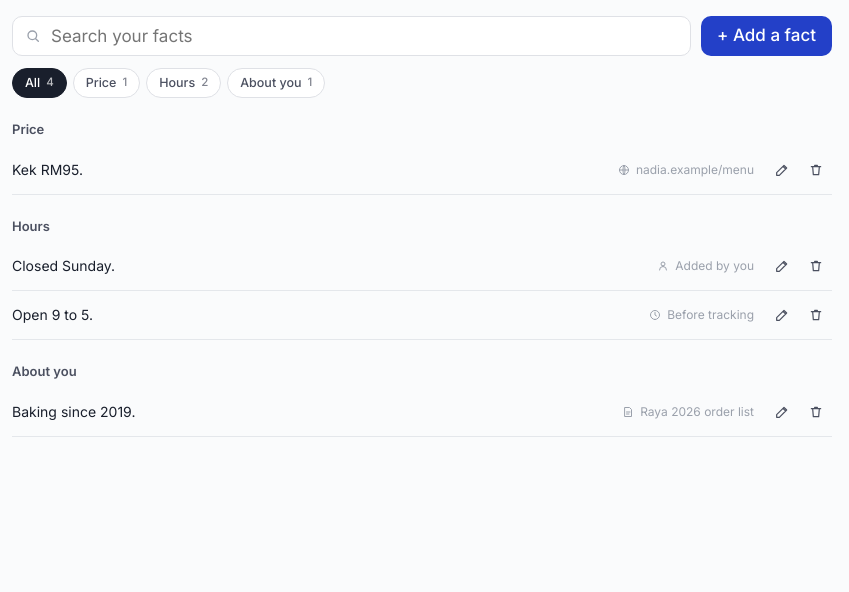
Test case: FactList › adds a fact with its kind, trusted straight away
Click the button "+ Add a fact". click: click(766, 36)
box: [701, 16, 832, 56]
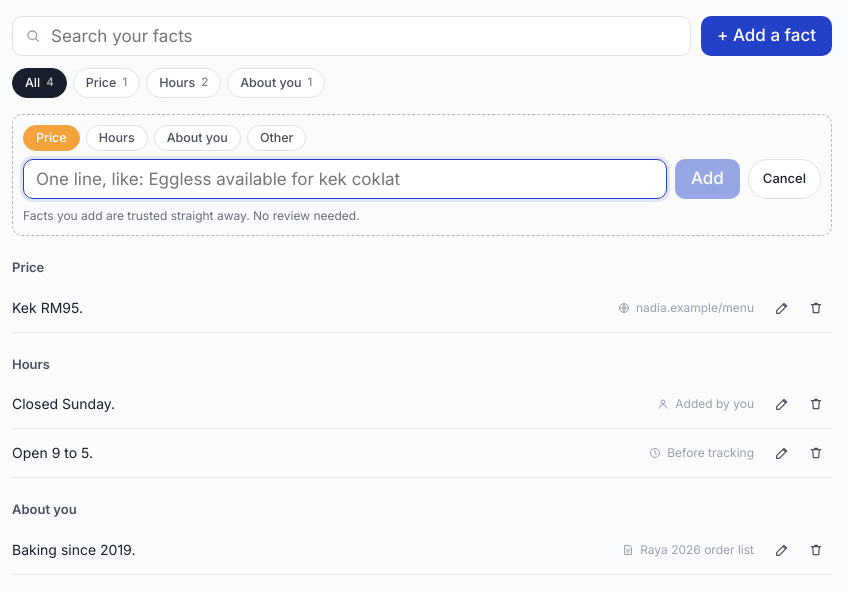
Expected: the text "Facts you add are trusted straight away. No review needed." is shown, [23, 208, 360, 223]
Click the radio button labelled "Other". click: click(277, 138)
box: [247, 125, 306, 151]
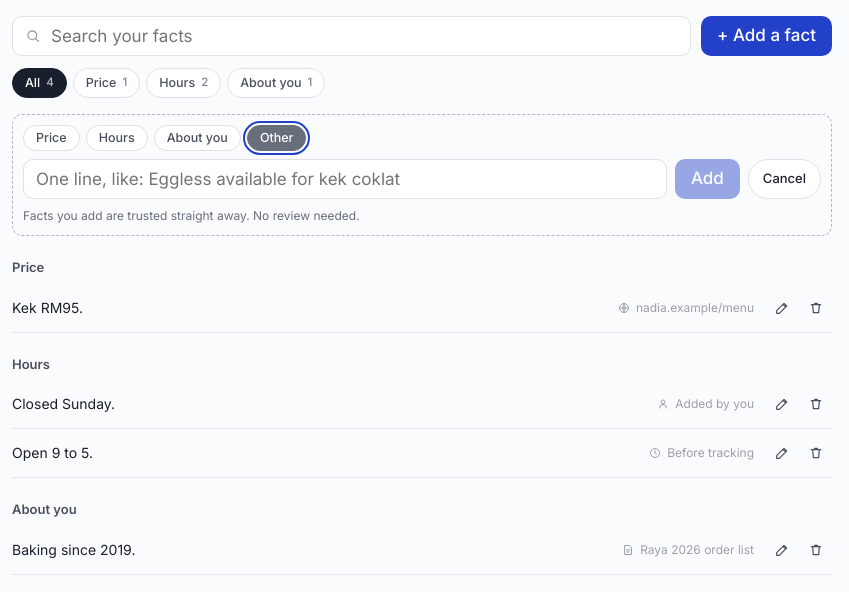
Type "Parking at the back." into the field named "New fact". click: (345, 179)
box: [23, 159, 667, 199]
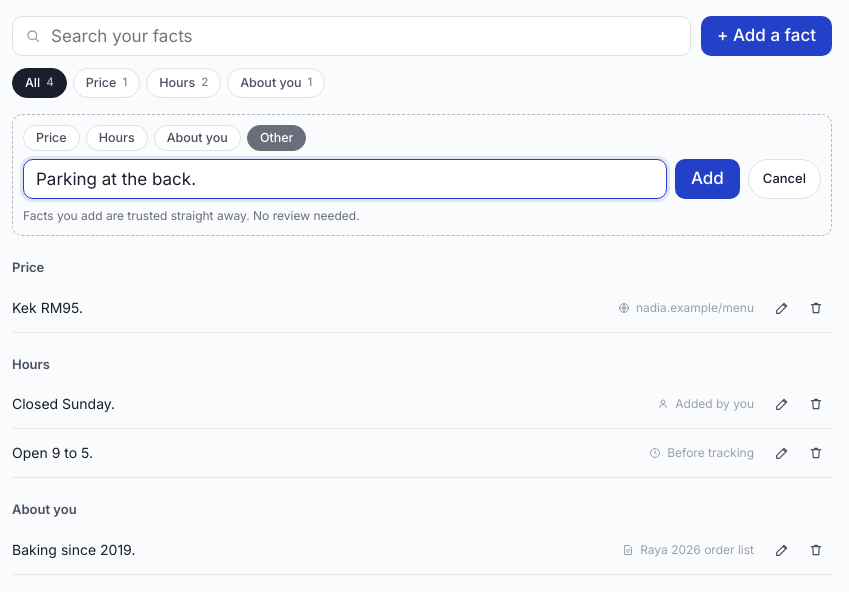
Click the button "Add". click: click(707, 179)
box: [675, 159, 740, 199]
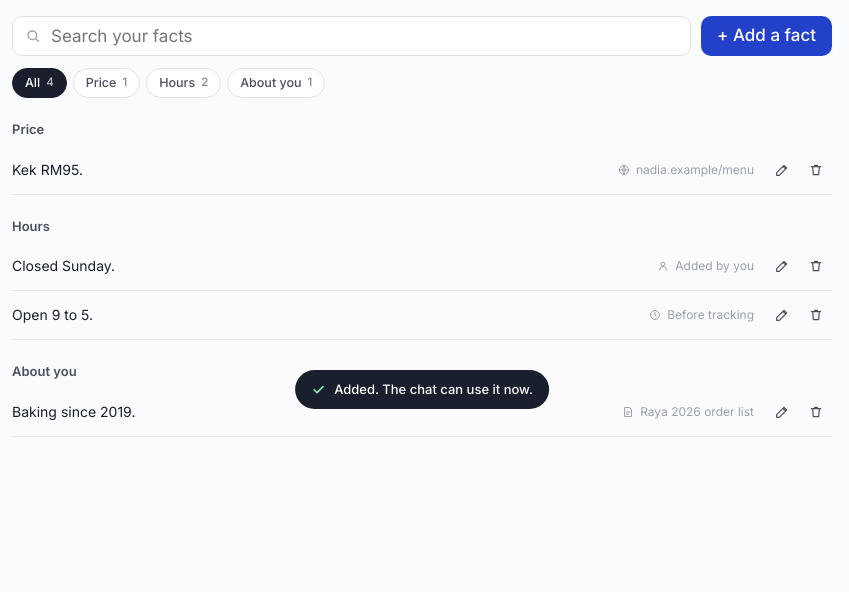
Expected: the message reads "Added. The chat can use it now.", [334, 381, 533, 397]
